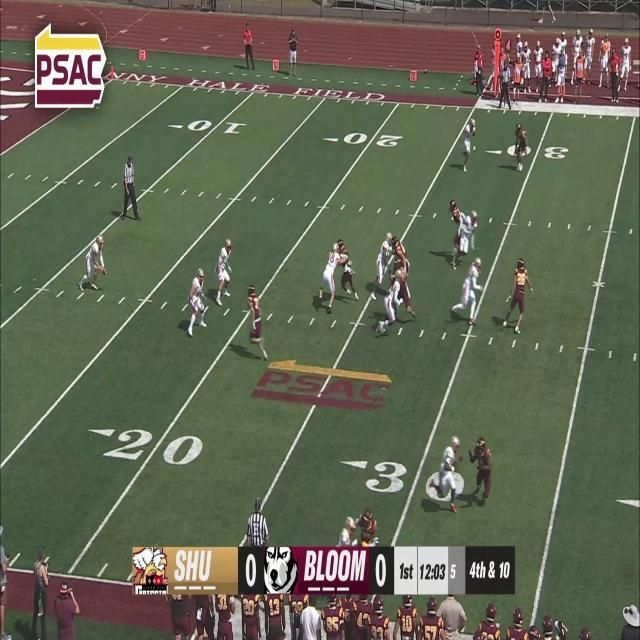football: (101, 266, 108, 278)
